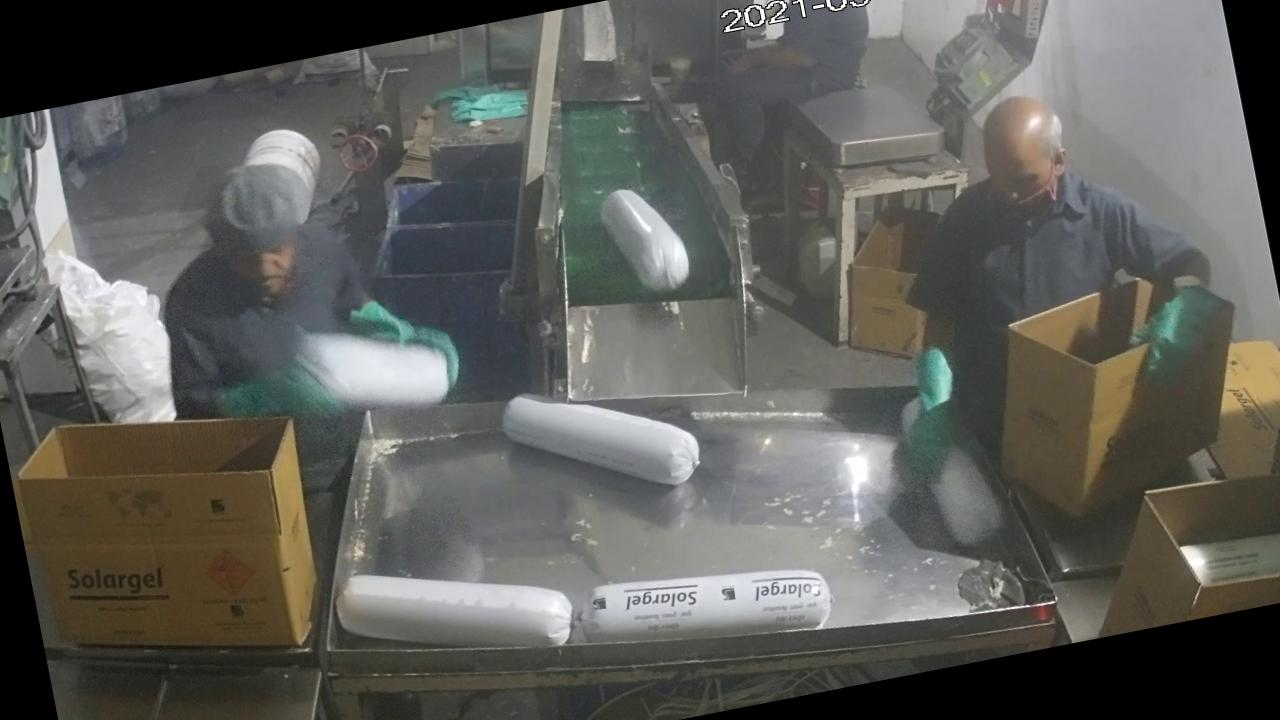Gloves: (1110, 264, 1244, 410), (875, 330, 985, 500)
No-gloves: (720, 22, 836, 100)
